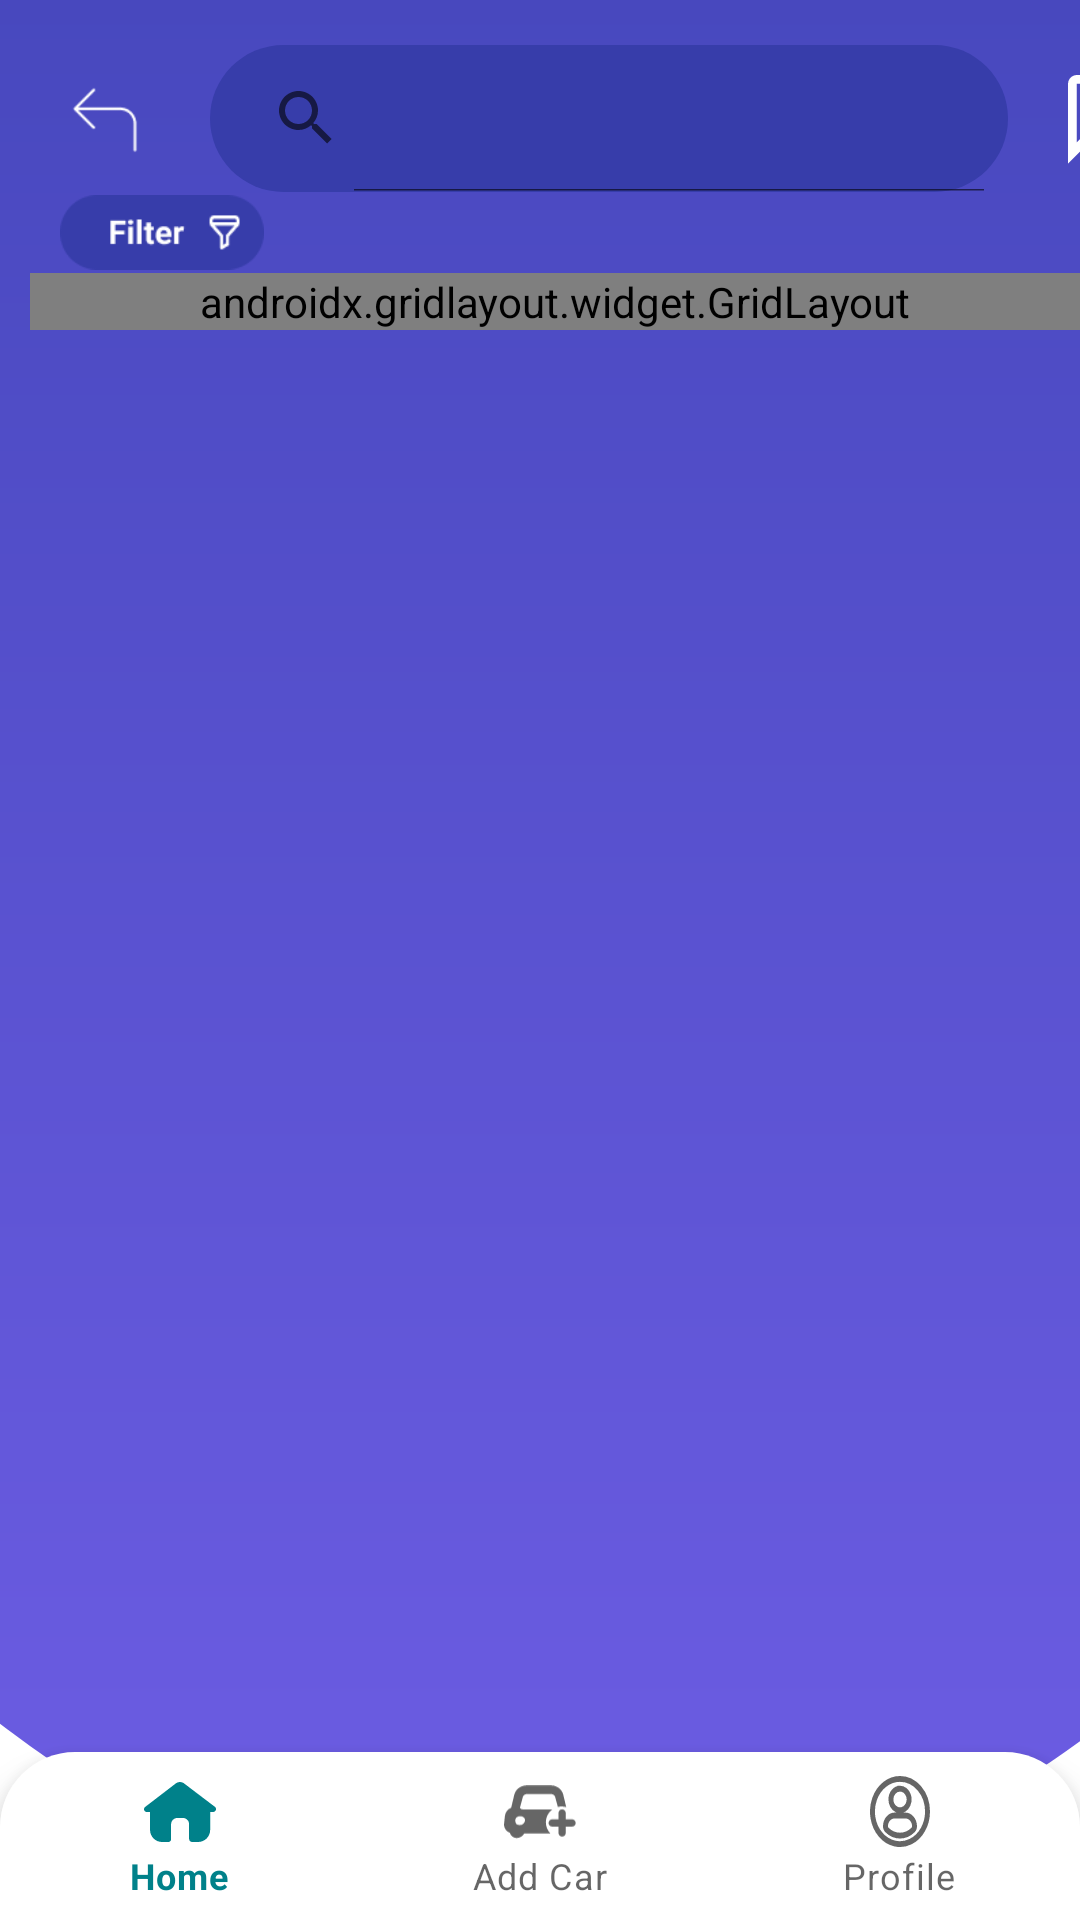

Where to tap for icons on this 1080 x 1920 app screen, as point (x, y):
return: point (105, 120)
